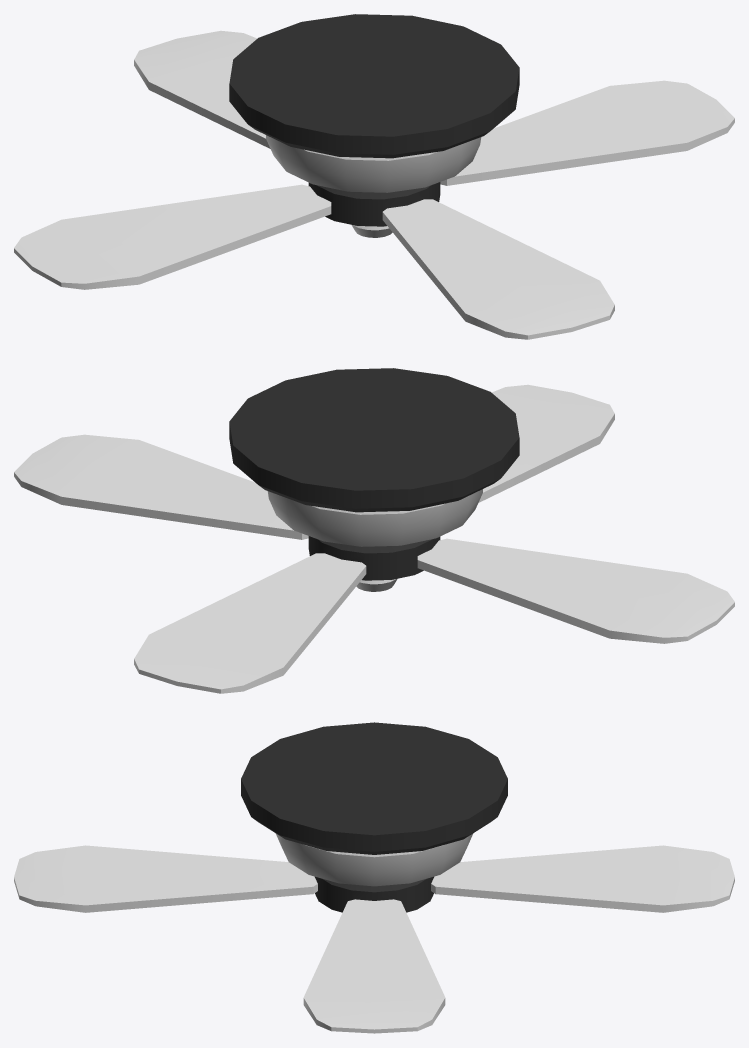
Rendered from ceilingfan.fbx.
The picture shows the model from 3 angles, top to bottom: view 1: azimuth 30°, elevation 25°; view 2: azimuth 150°, elevation 25°; view 3: azimuth 270°, elevation 25°; orthographic projection. The views are drawn at different scales.
Parts seen in each view (by area): view 1: Cylinder.001, Cylinder; view 2: Cylinder.001, Cylinder; view 3: Cylinder.001, Cylinder.
Boxes of the visible parts, bbox=[...] form: Cylinder.001: bbox=[14, 30, 734, 339]; Cylinder: bbox=[229, 14, 519, 192]; Cylinder.001: bbox=[14, 384, 734, 693]; Cylinder: bbox=[229, 368, 519, 546]; Cylinder.001: bbox=[14, 845, 734, 1033]; Cylinder: bbox=[241, 722, 507, 886].
Size of the model in its own units: 334 by 71.89 by 334.
